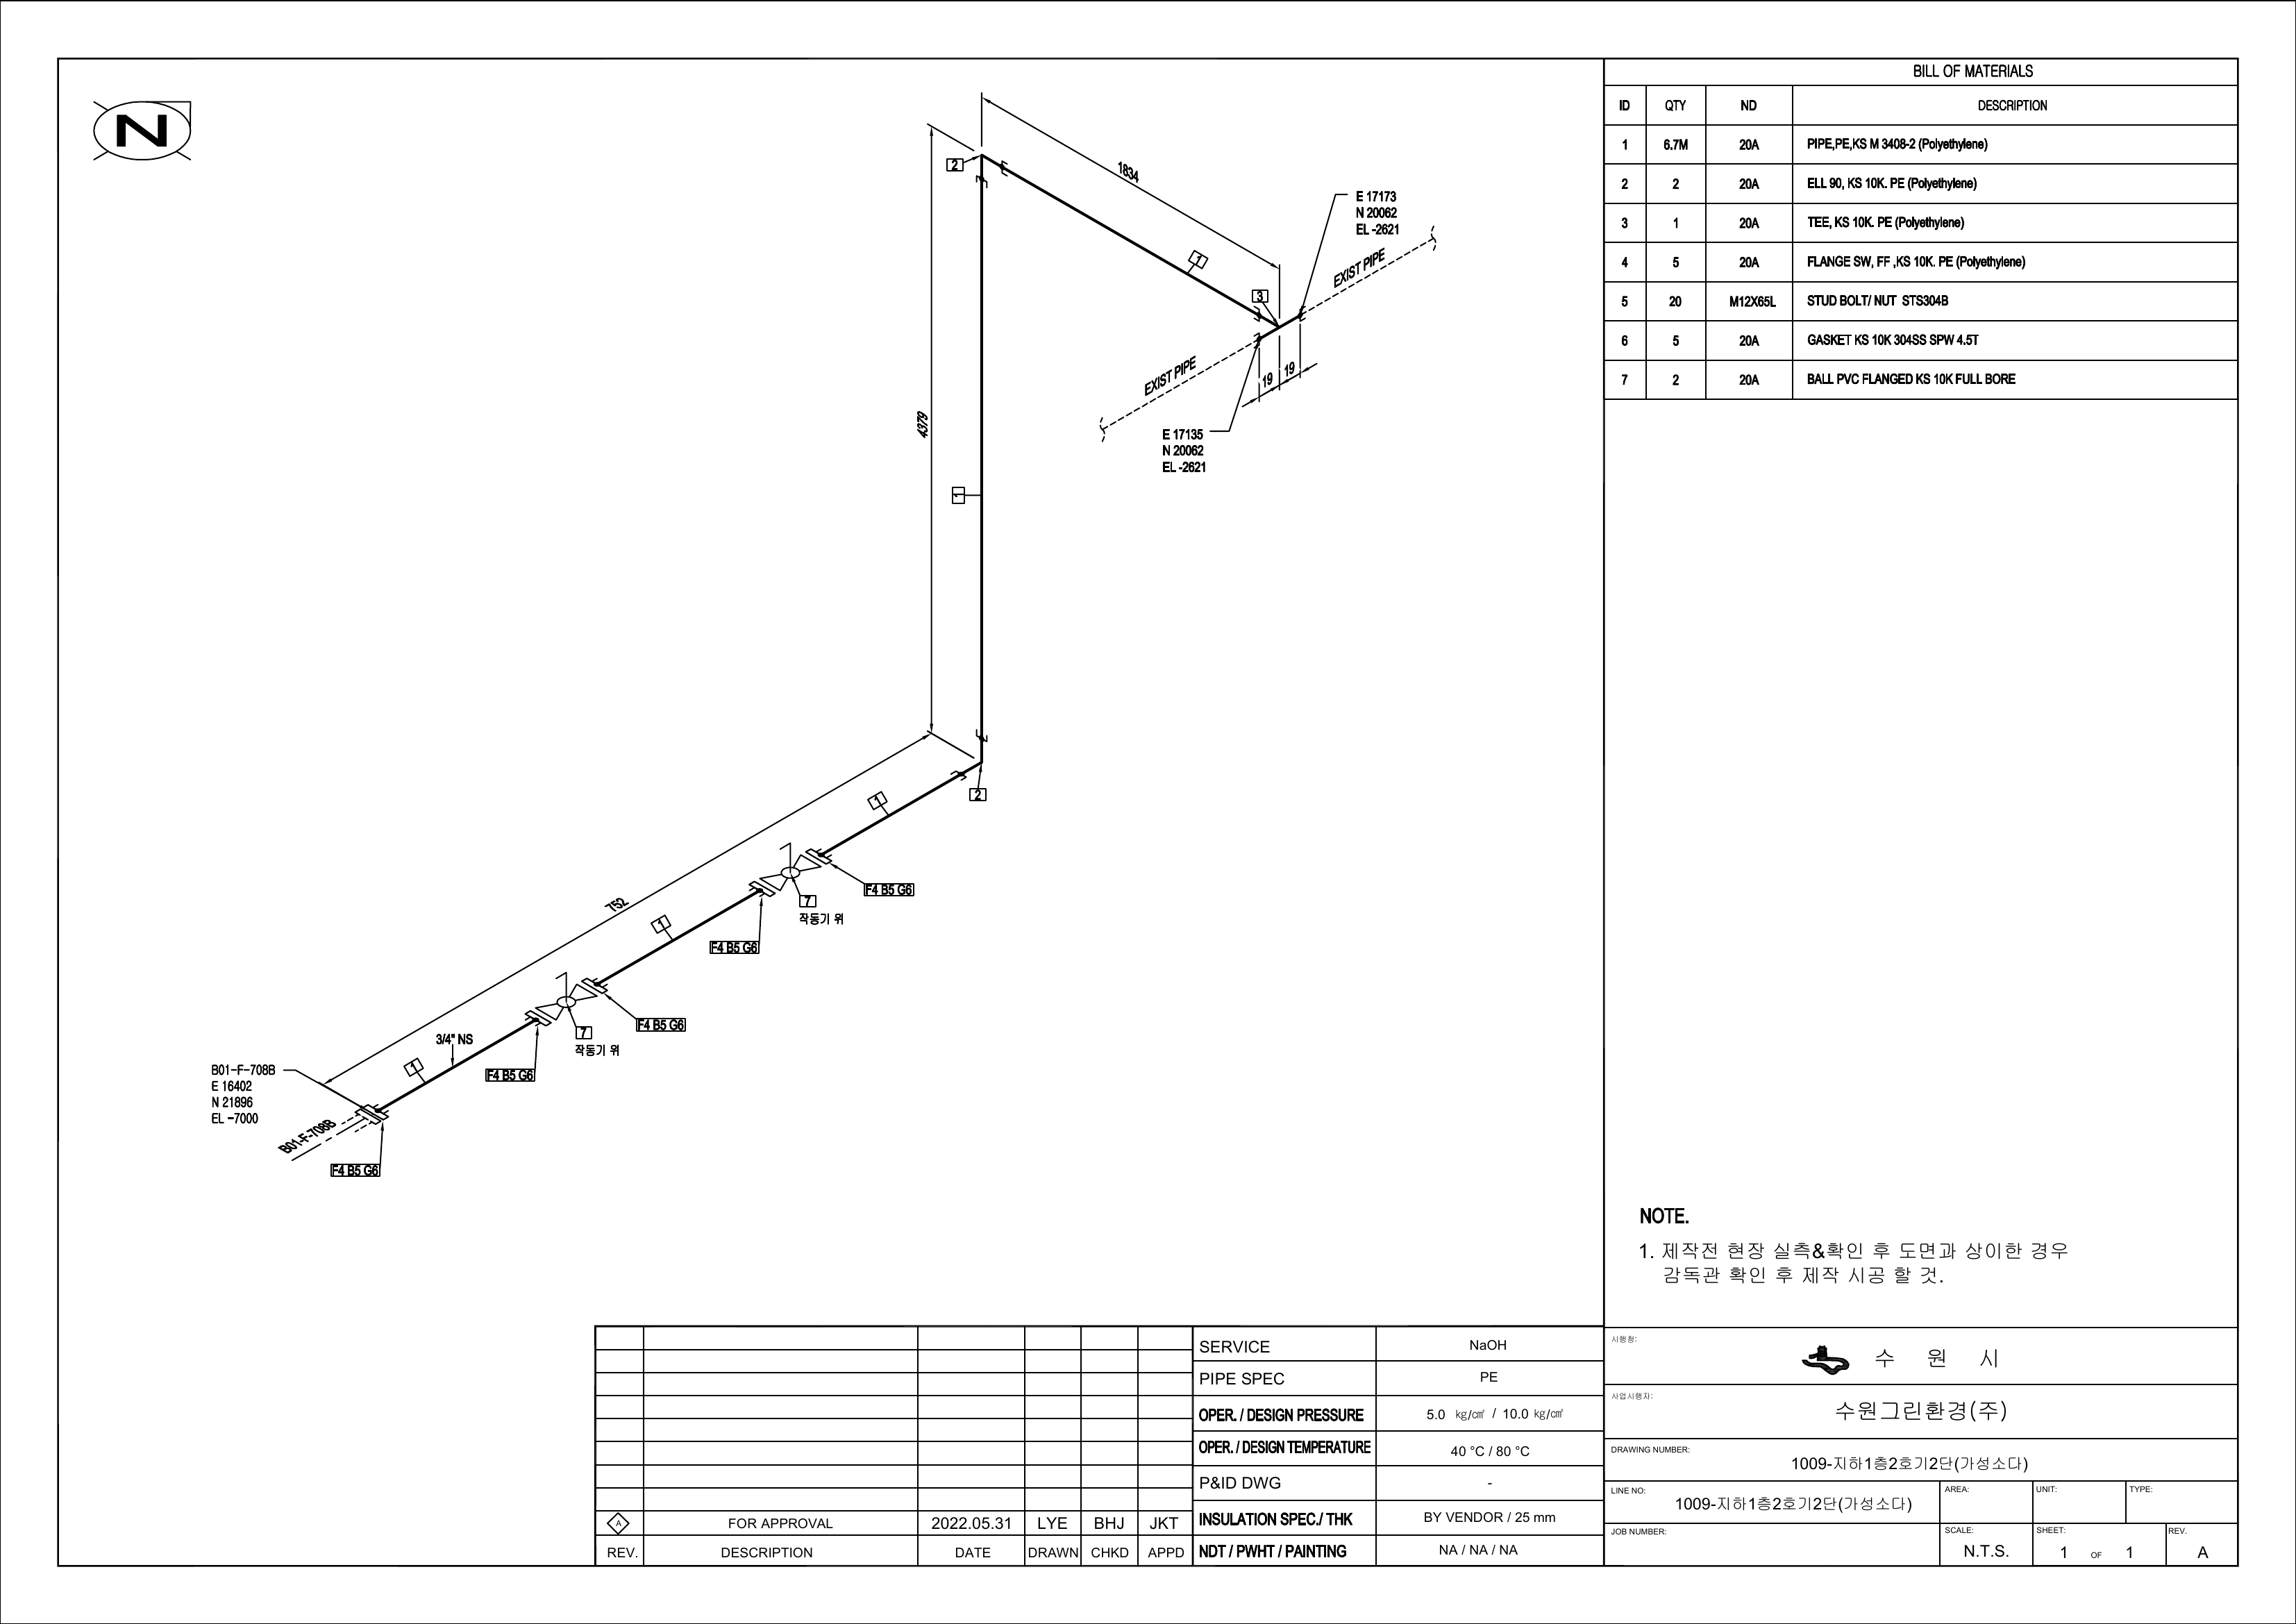table: (1599, 47, 2243, 408)
